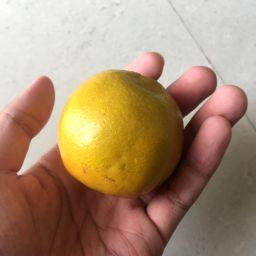Ripe: (57, 69, 183, 196)
